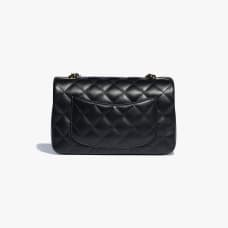channel: (39, 70, 187, 161), (70, 98, 169, 141)
